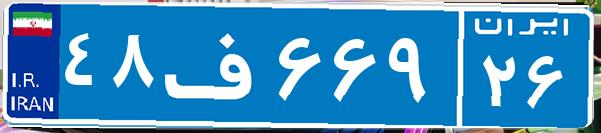2: (475, 38, 525, 113)
4: (57, 26, 110, 107)
6: (273, 28, 330, 110), (330, 28, 385, 110), (525, 38, 570, 115)
8: (110, 28, 158, 105)
9: (385, 28, 445, 110)
ف: (158, 15, 273, 115)
